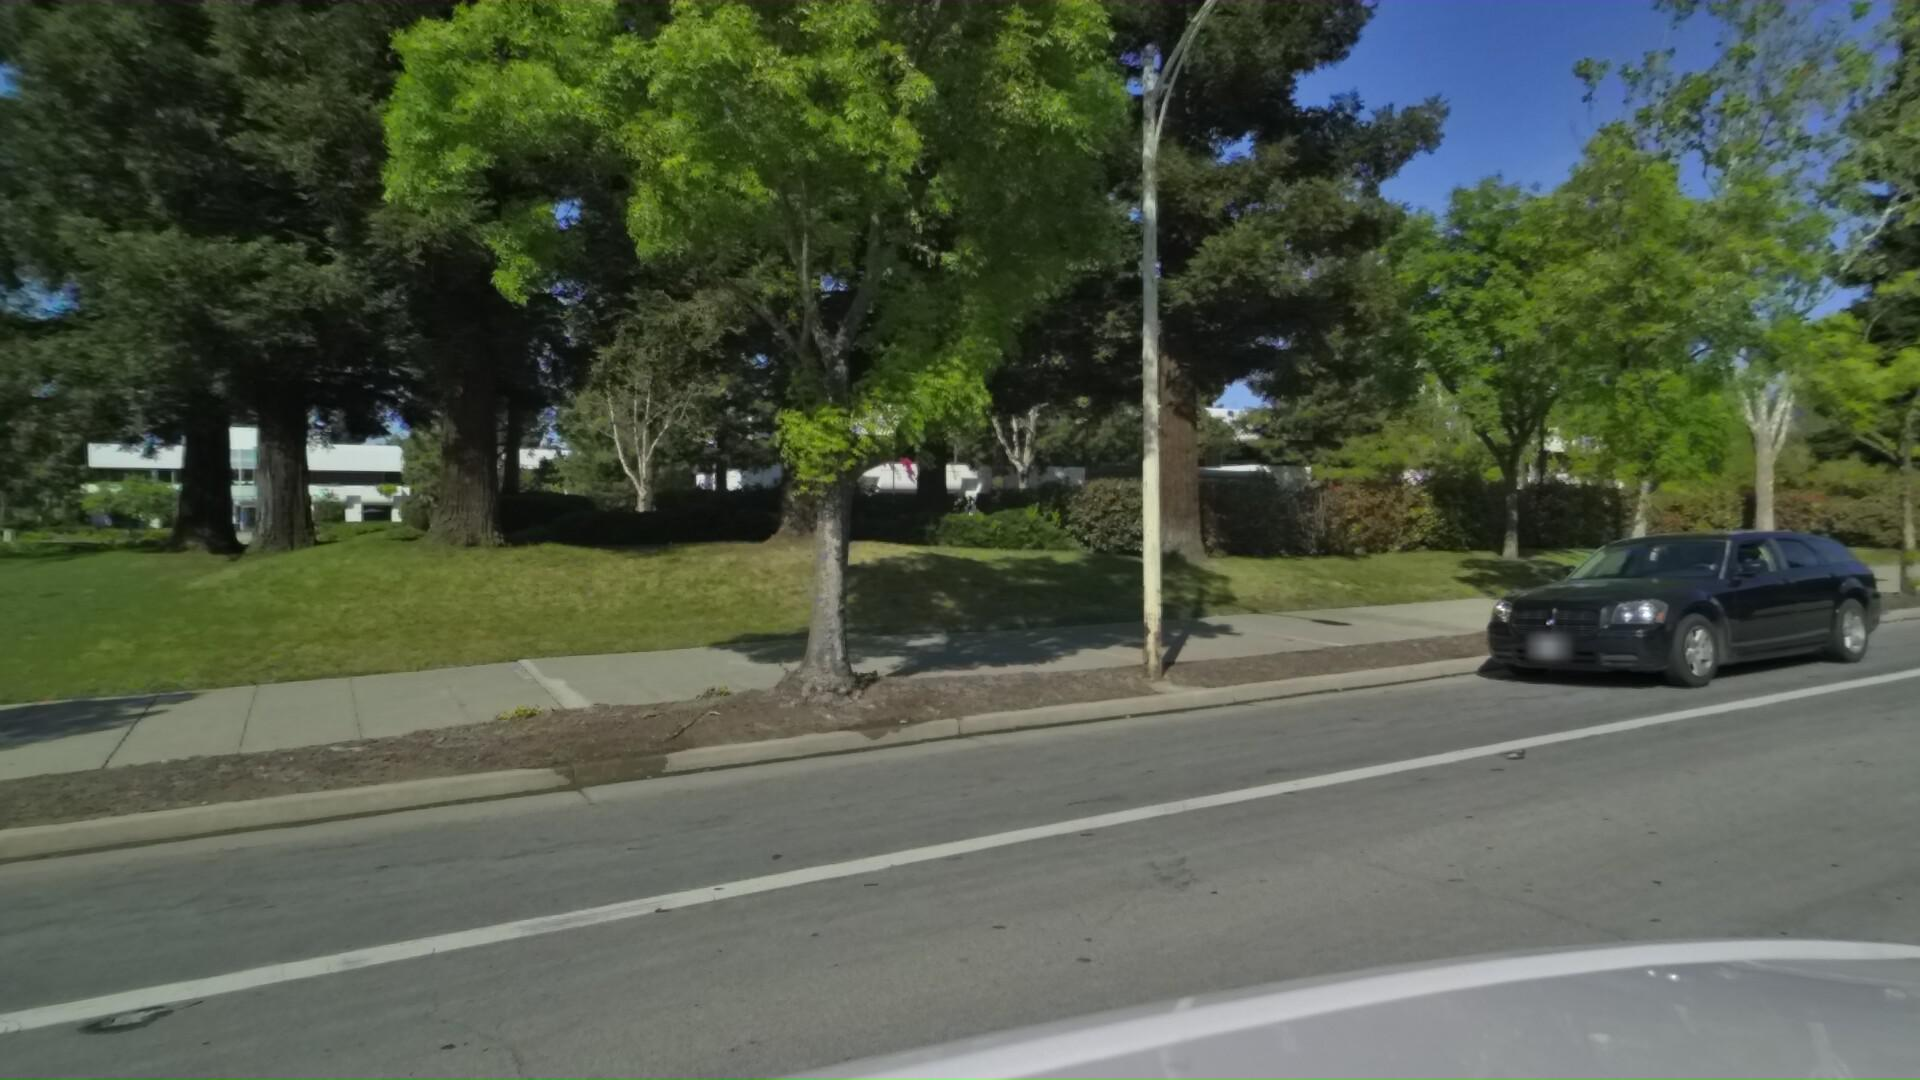car: (1429, 512, 1870, 702)
